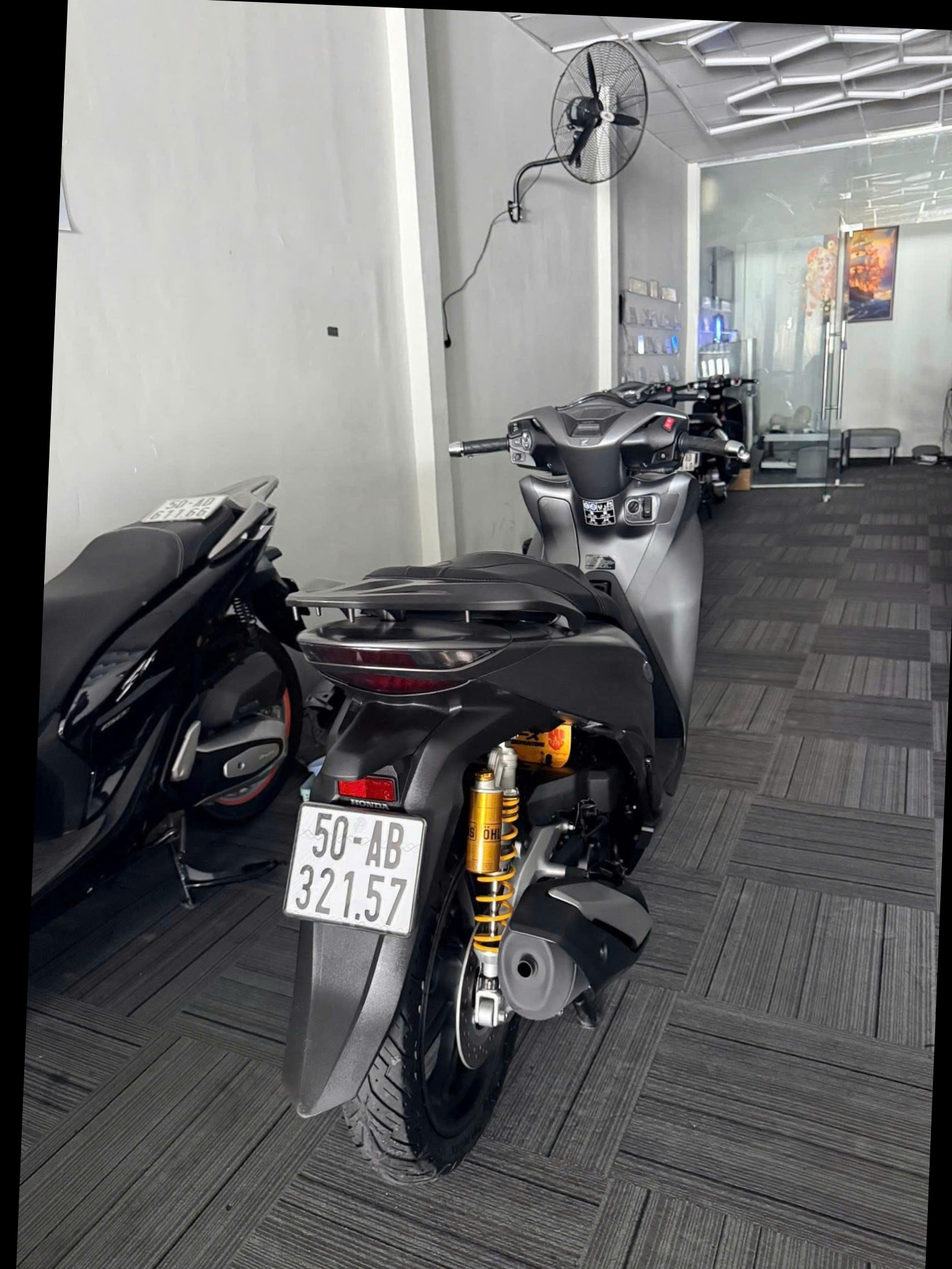Bien-so: (280, 794, 429, 943)
